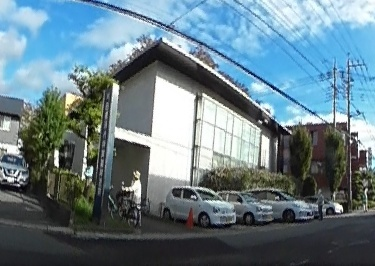person: (124, 167, 143, 216), (314, 187, 324, 215)
